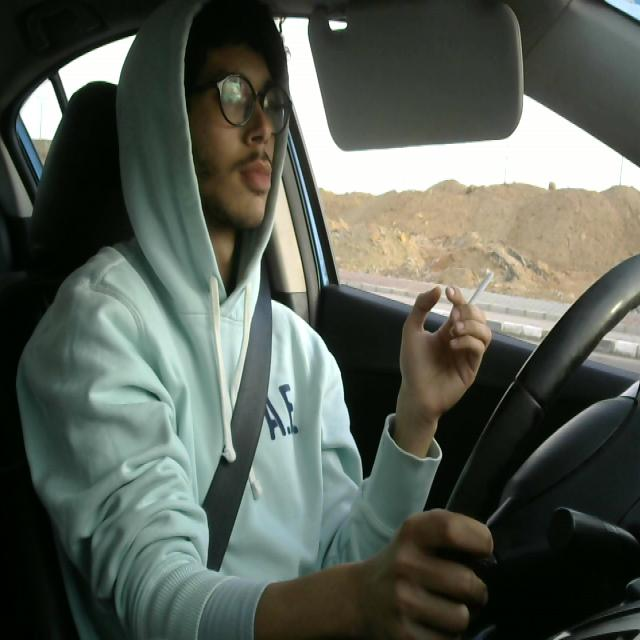smoking: (448, 266, 492, 338)
